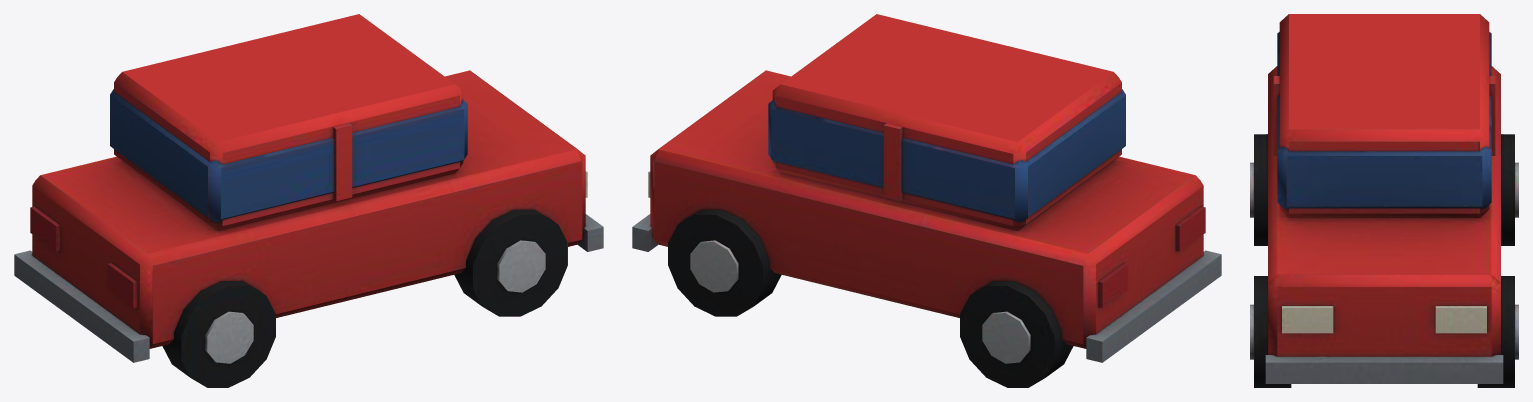
File: coche_rojo.glb
3 views of the same model, side by side, from view 1: azimuth 30°, elevation 25°; view 2: azimuth 150°, elevation 25°; view 3: azimuth 270°, elevation 25° (orthographic).
Visible parts, largest first — view 1: coche_rojo; view 2: coche_rojo; view 3: coche_rojo.
Boxes of the visible parts, x1,y1,x2,y2 form: coche_rojo: (14,14,603,387); coche_rojo: (632,14,1221,387); coche_rojo: (1250,14,1518,387).
Bounding box in the file's own units: 2.32 × 1.09 × 1.15.
1 material, 1 textured.
